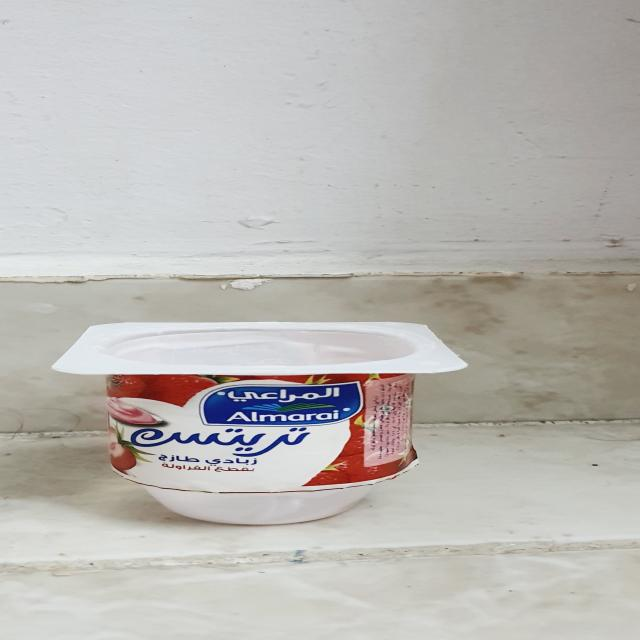plastic: (59, 324, 463, 529)
